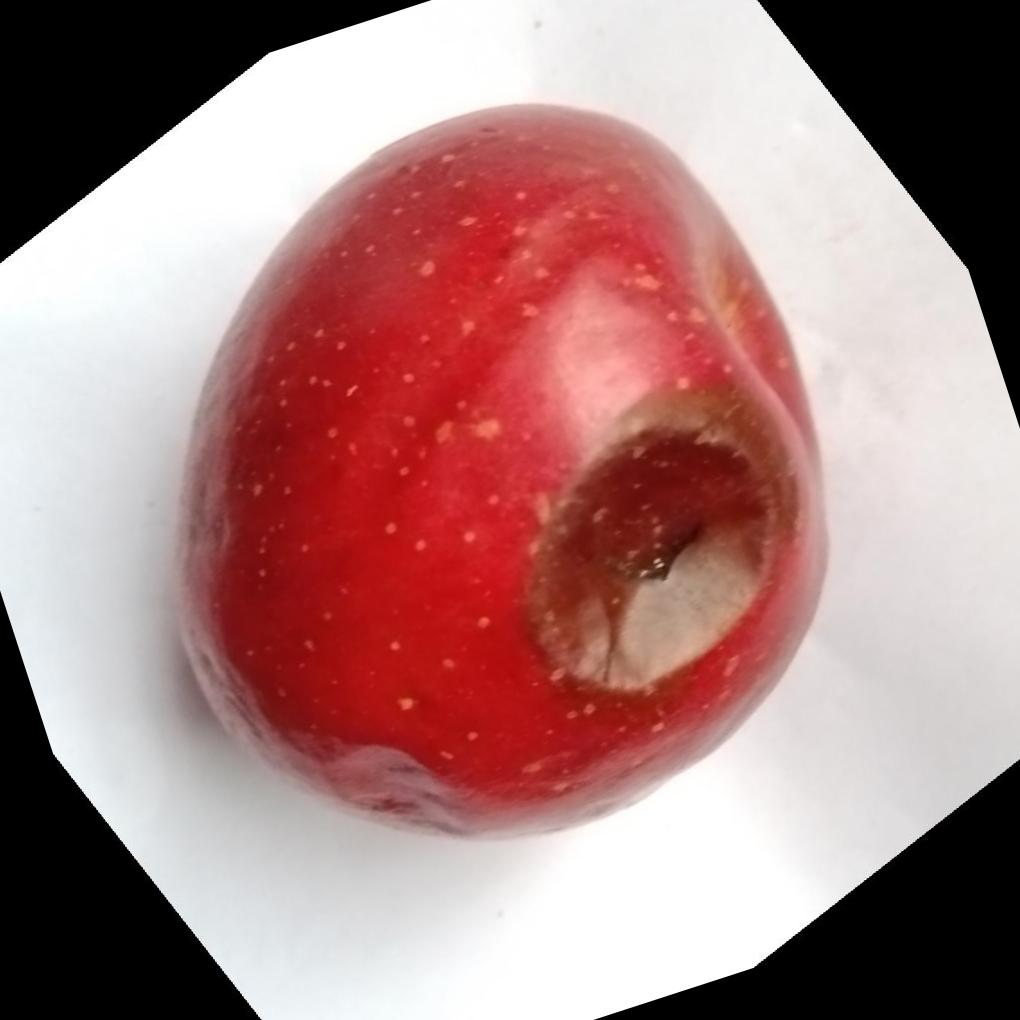FreshOrange: (167, 103, 834, 847)
